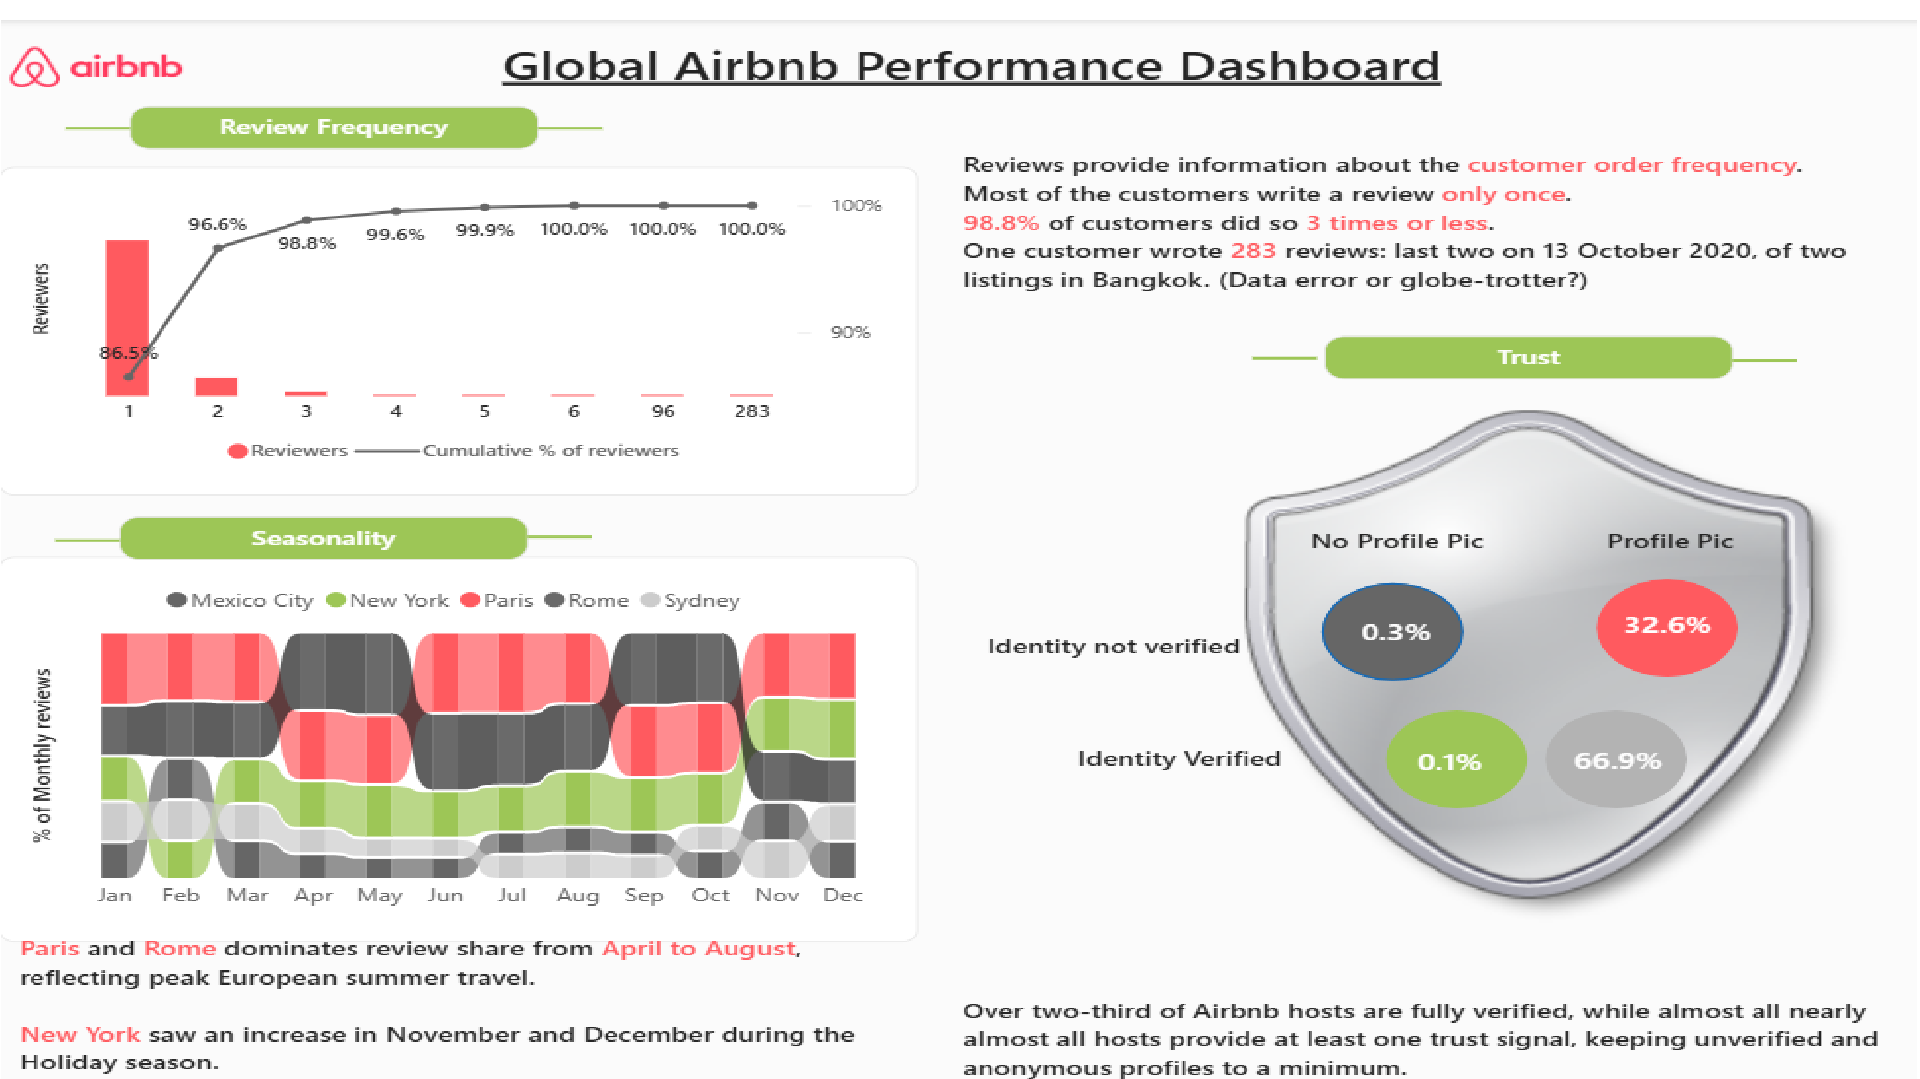

This screenshot's page, from the dashboard's own definition file:
{"tool":"powerbi","page":{"name":"Review","canvas":[960,720],"ordinal":2},"visuals":[{"type":"textbox","box":[10.2,12.8,949.4,66.6],"z":0},{"type":"image","box":[567.9,250.4,391.7,363.9],"z":0,"group":"g1"},{"type":"image","box":[0,19.2,97.4,26.9],"z":1000},{"type":"textbox","box":[647.5,340.6,97.9,42.8],"z":1000,"group":"g1"},{"type":"textbox","box":[65.2,58.8,203.7,29.5],"z":2000},{"type":"textbox","box":[480.4,410.9,150.2,42.8],"z":2000,"group":"g1"},{"type":"shape","box":[33.2,58.8,32.1,30],"z":3000},{"type":"textbox","box":[782,340.6,97.9,42.8],"z":3000,"group":"g1"},{"type":"shape","box":[268.3,58.8,32.1,30],"z":4000},{"type":"textbox","box":[528.7,487.4,118.8,42.8],"z":4000,"group":"g1"},{"type":"shape","box":[659.3,378.8,70.5,65.7],"z":5000,"group":"g1"},{"type":"lineStackedColumnComboChart","fields":{"Y":["Reviews.Reviewers"],"Category":["Reviews.Reviews per Reviewer"],"Y2":["Reviews.Cumulative percentage"]},"box":[0,99.7,457.4,221],"z":6000},{"type":"cardVisual","fields":{"Data":["Listings.NotIdentified_NoProfilePic %"]},"box":[659.3,374.2,74.4,74.9],"z":6000,"group":"g1"},{"type":"group","id":"g1","title":"Group 1","box":[480.4,250.4,479.1,364.1],"z":7000},{"type":"shape","box":[770.3,464.5,70.5,65.7],"z":7000,"group":"g1"},{"type":"textbox","box":[660.6,213.4,203.7,29.5],"z":8000,"group":"g2"},{"type":"shape","box":[690.6,464.5,70.5,65.7],"z":8000,"group":"g1"},{"type":"textbox","box":[480.4,88.2,470.2,109.9],"z":9000},{"type":"shape","box":[796.4,377.3,70.5,65.7],"z":9000,"group":"g1"},{"type":"cardVisual","fields":{"Data":["Listings.NotIdentified_ProfilePic %"]},"box":[792.5,369.7,79.6,74.9],"z":10000,"group":"g1"},{"type":"textbox","box":[480.4,656.7,470.2,63.9],"z":10000},{"type":"ribbonChart","fields":{"Series":["Listings.city"],"Y":["Listings.% of Monthly reviews"],"Category":["Reviews.Review month"]},"box":[0,361.6,457.4,259.4],"z":11000},{"type":"cardVisual","fields":{"Data":["Listings.Identified_NoProfilePic %"]},"box":[686.7,461.4,74.4,74.9],"z":11000,"group":"g1"},{"type":"shape","box":[863.7,214.7,32.1,30],"z":11001,"group":"g2"},{"type":"shape","box":[624.8,213.4,32.1,30],"z":11002,"group":"g2"},{"type":"textbox","box":[60.3,334.9,203.7,29.5],"z":11003},{"type":"shape","box":[28.1,336,32.1,30],"z":11004},{"type":"shape","box":[263.4,333.7,32.1,30],"z":11005},{"type":"group","id":"g2","title":"Group 2","box":[624.8,213.4,270.9,30.7],"z":11006},{"type":"textbox","box":[10.2,614.6,447.2,106],"z":11007},{"type":"cardVisual","fields":{"Data":["Listings.Identified_ProfilePic %"]},"box":[763.7,459.9,86.2,74.9],"z":12000,"group":"g1"}]}

Visuals, with their boxes on the page's 960x720 design canvas (x1, y1, x2, y2). These are canvas units, not pixel positions in the 1920x1079 screenshot, which may show the page scaled, cropped or inside an application window:
textbox: detection(10, 13, 960, 79)
image: detection(568, 250, 960, 614)
image: detection(0, 19, 97, 46)
textbox: detection(648, 341, 745, 383)
textbox: detection(65, 59, 269, 88)
textbox: detection(480, 411, 631, 454)
shape: detection(33, 59, 65, 89)
textbox: detection(782, 341, 880, 383)
shape: detection(268, 59, 300, 89)
textbox: detection(529, 487, 648, 530)
shape: detection(659, 379, 730, 444)
lineStackedColumnComboChart - Reviews.Reviewers x Reviews.Reviews per Reviewer: detection(0, 100, 457, 321)
cardVisual - Listings.NotIdentified_NoProfilePic %: detection(659, 374, 734, 449)
"Group 1" group: detection(480, 250, 960, 614)
shape: detection(770, 464, 841, 530)
textbox: detection(661, 213, 864, 243)
shape: detection(691, 464, 761, 530)
textbox: detection(480, 88, 951, 198)
shape: detection(796, 377, 867, 443)
cardVisual - Listings.NotIdentified_ProfilePic %: detection(792, 370, 872, 445)
textbox: detection(480, 657, 951, 721)
ribbonChart - Listings.city x Listings.% of Monthly reviews: detection(0, 362, 457, 621)
cardVisual - Listings.Identified_NoProfilePic %: detection(687, 461, 761, 536)
shape: detection(864, 215, 896, 245)
shape: detection(625, 213, 657, 243)
textbox: detection(60, 335, 264, 364)
shape: detection(28, 336, 60, 366)
shape: detection(263, 334, 296, 364)
"Group 2" group: detection(625, 213, 896, 244)
textbox: detection(10, 615, 457, 721)
cardVisual - Listings.Identified_ProfilePic %: detection(764, 460, 850, 535)
